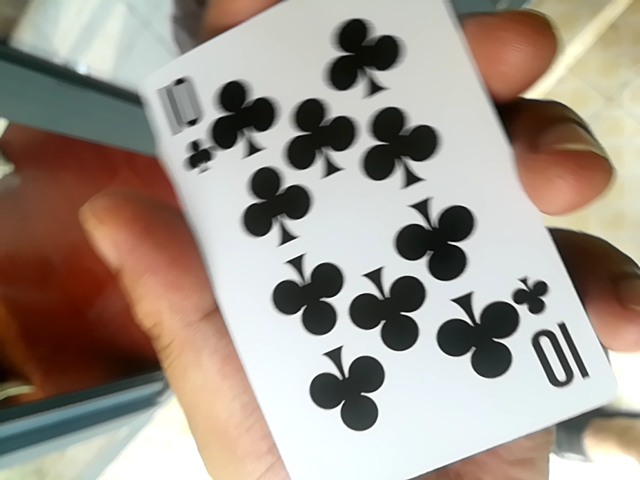mh 10: (107, 8, 604, 475)
